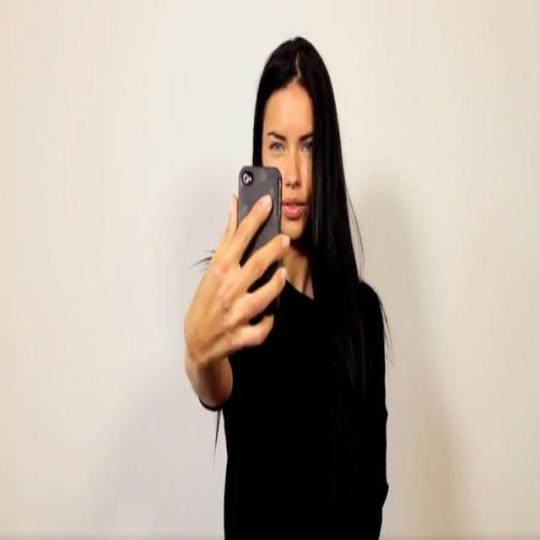phone: (239, 166, 283, 290)
